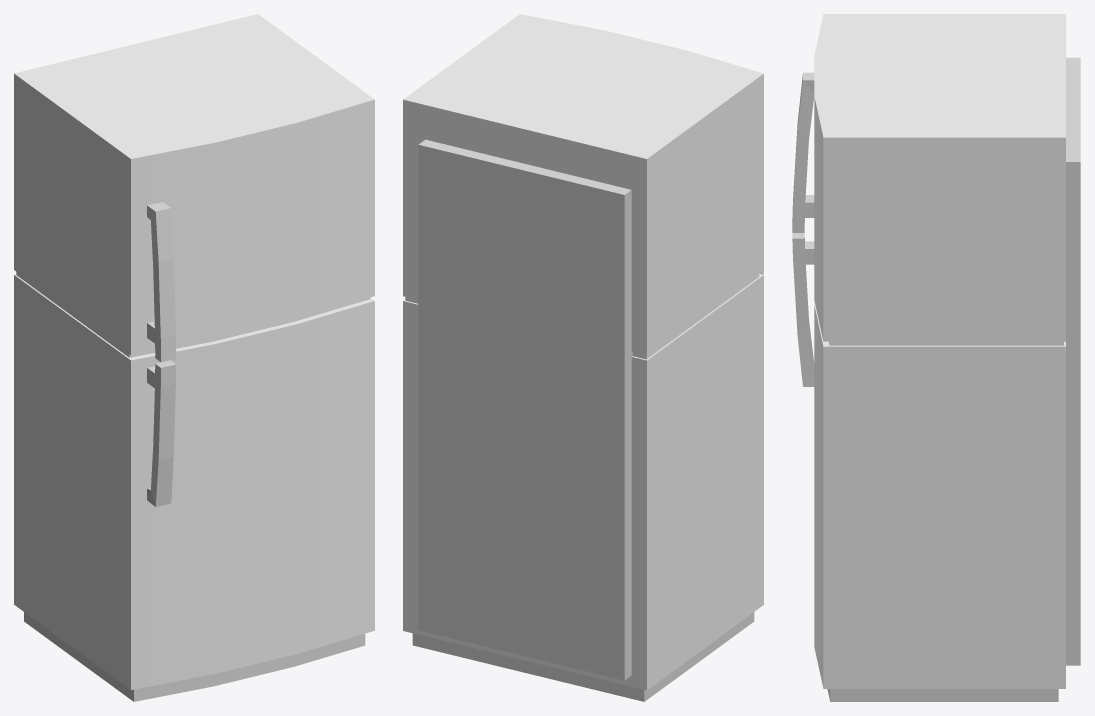
The model's file is Refrigirator.fbx.
3 views of the same model, side by side, from view 1: azimuth 30°, elevation 25°; view 2: azimuth 150°, elevation 25°; view 3: azimuth 270°, elevation 25° (orthographic). The views are drawn at different scales.
Parts seen in each view (by area): view 1: Refrigirator; view 2: Refrigirator; view 3: Refrigirator.
Boxes of the visible parts, box(x1,y1,x2,y2) form: Refrigirator: box(14, 14, 374, 701); Refrigirator: box(403, 14, 763, 701); Refrigirator: box(792, 14, 1080, 701).
Size of the model in its own units: 1.12 by 2.39 by 1.1.
